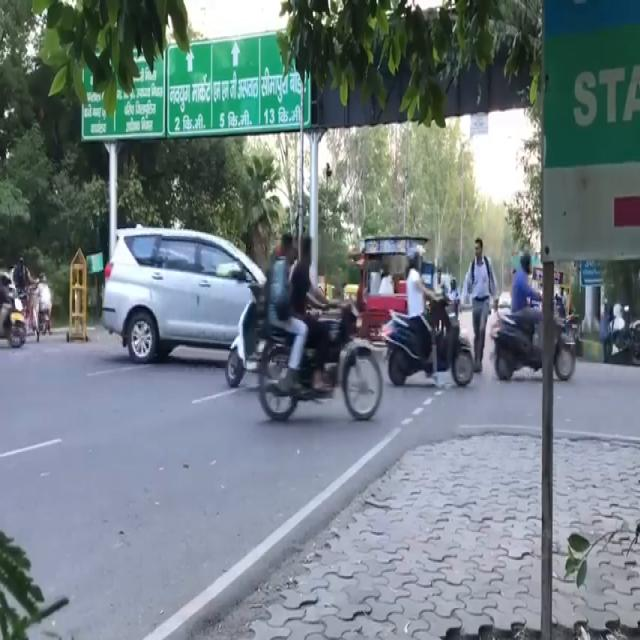MOTORCYCLE: (228, 299, 380, 432), (375, 305, 475, 390), (497, 312, 575, 386)
SUV: (105, 228, 268, 360)
